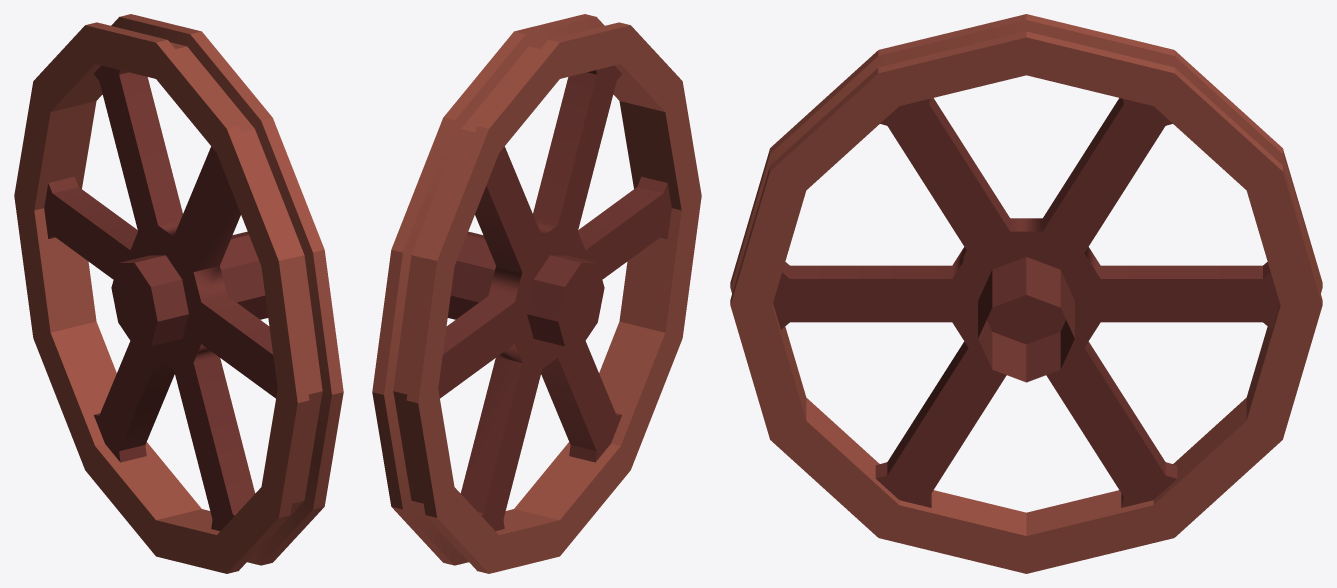
Rendered from SM_Prop_Pipline_Wheel_01.fbx.
3 renders of one model, left to right at view 1: azimuth 30°, elevation 25°; view 2: azimuth 150°, elevation 25°; view 3: azimuth 270°, elevation 25°, orthographic. The views are drawn at different scales.
Parts seen in each view (by area): view 1: SM_Prop_Pipline_Wheel_01; view 2: SM_Prop_Pipline_Wheel_01; view 3: SM_Prop_Pipline_Wheel_01.
Part boxes in pixels (bbox=[...]): SM_Prop_Pipline_Wheel_01: bbox=[14, 14, 343, 573]; SM_Prop_Pipline_Wheel_01: bbox=[372, 14, 701, 573]; SM_Prop_Pipline_Wheel_01: bbox=[730, 14, 1322, 573].
Bounding box in the file's own units: 32.82 × 122 × 122.
